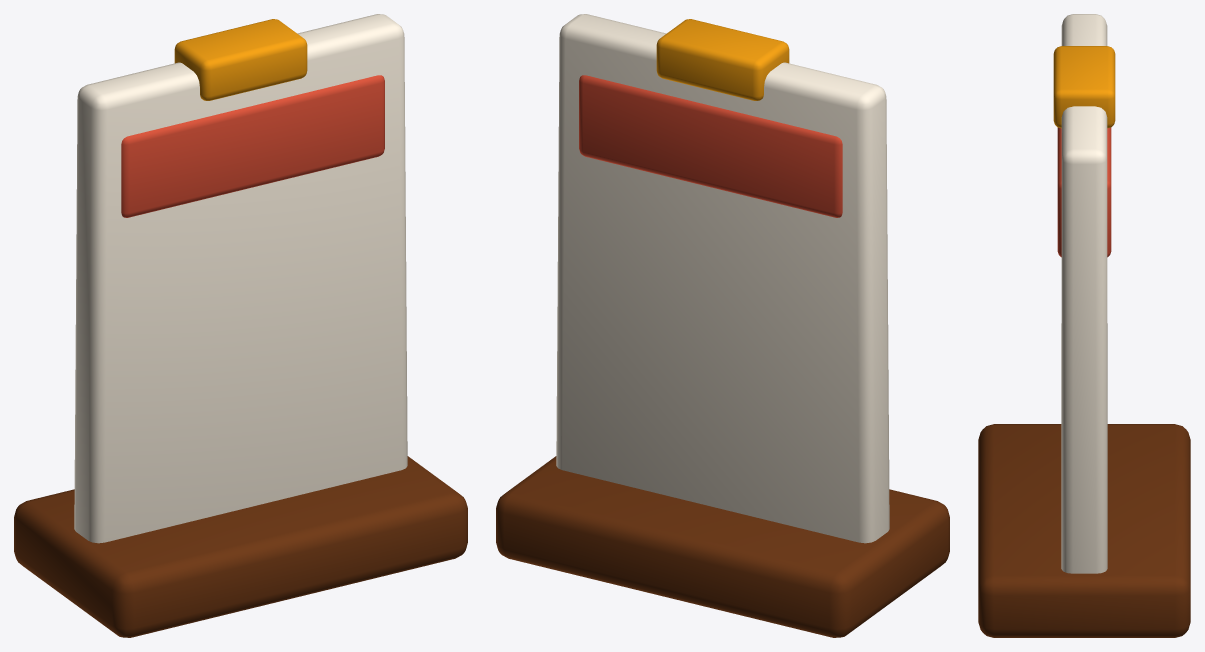
The model's file is menu.gltf.
3 views of the same model, side by side, from view 1: azimuth 30°, elevation 25°; view 2: azimuth 150°, elevation 25°; view 3: azimuth 270°, elevation 25° (orthographic). The views are drawn at different scales.
Visible parts, largest first — view 1: MenuStandBase; view 2: MenuStandBase; view 3: MenuStandBase.
Boxes of the visible parts, x1=… form: MenuStandBase: x1=14, y1=14, x2=467, y2=637; MenuStandBase: x1=496, y1=14, x2=949, y2=637; MenuStandBase: x1=978, y1=14, x2=1190, y2=637.
Size of the model in its own units: 0.2 by 0.2825 by 0.11.
